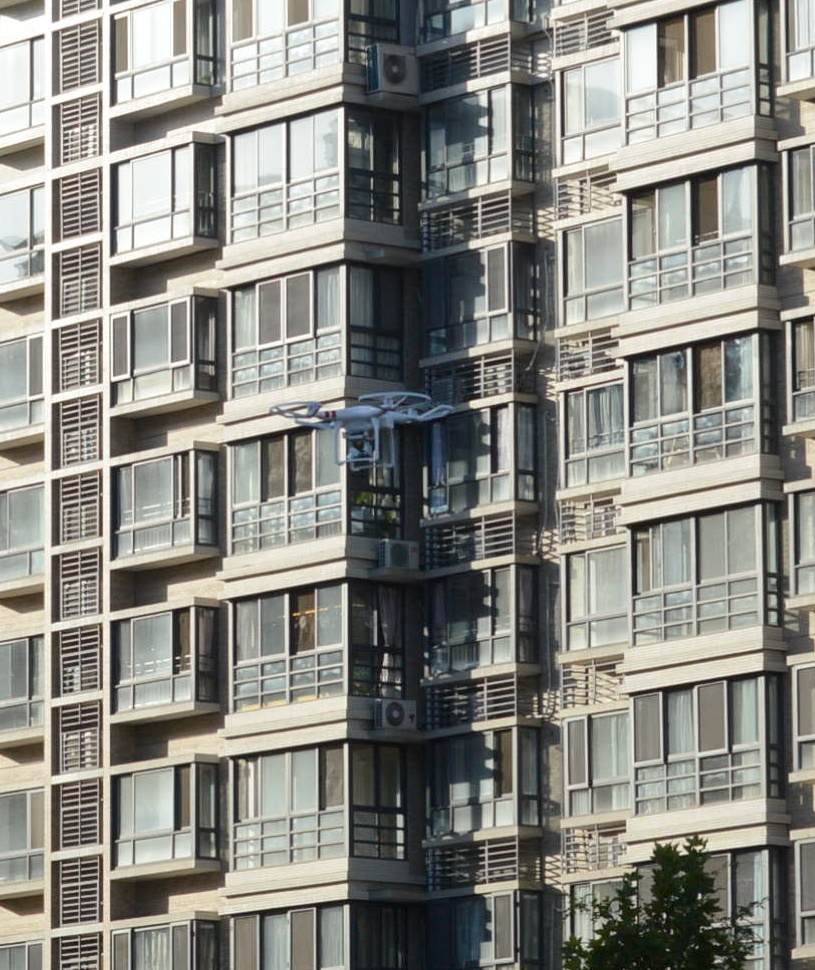DJI: (270, 392, 452, 472)
